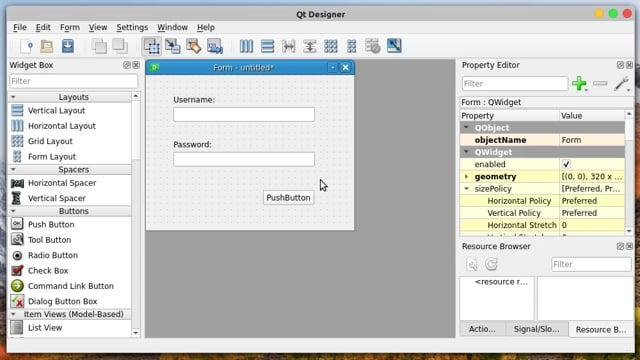button: (567, 321, 635, 339), (509, 321, 567, 339), (459, 320, 507, 339), (264, 191, 316, 206)
checkbox: (614, 77, 632, 94)
dropdown: (7, 91, 135, 106), (8, 205, 132, 219), (8, 165, 133, 178)
icon: (88, 37, 110, 58), (205, 37, 227, 58), (111, 37, 130, 58), (143, 37, 162, 58), (164, 37, 181, 58), (364, 37, 382, 56), (9, 293, 27, 311), (237, 38, 255, 56), (281, 39, 299, 57), (9, 319, 27, 336), (323, 39, 340, 57), (387, 38, 405, 55), (485, 256, 502, 273), (59, 39, 76, 56), (20, 39, 36, 57), (40, 39, 56, 57), (303, 39, 319, 57), (186, 39, 201, 56), (261, 39, 276, 56), (573, 77, 589, 92), (466, 257, 481, 273), (9, 191, 25, 206), (11, 279, 27, 294), (10, 233, 25, 248), (347, 39, 359, 57), (11, 218, 26, 232), (10, 135, 24, 149), (11, 265, 25, 279), (11, 179, 27, 191), (10, 150, 24, 163), (317, 177, 329, 192), (10, 251, 25, 263), (10, 105, 26, 116), (12, 120, 25, 133), (593, 81, 611, 88)
input: (9, 74, 142, 92), (175, 109, 315, 123), (175, 154, 317, 167), (464, 77, 569, 91), (552, 258, 633, 272)
label: (29, 283, 118, 293), (461, 242, 535, 254), (28, 297, 100, 309), (28, 122, 97, 132), (29, 179, 98, 189), (461, 62, 523, 73), (28, 107, 89, 118), (27, 194, 87, 205), (9, 61, 57, 73), (26, 151, 78, 162), (172, 95, 218, 107), (29, 252, 80, 262), (29, 221, 78, 231), (173, 139, 213, 151), (27, 137, 75, 147), (27, 323, 66, 335), (157, 22, 191, 34), (28, 237, 73, 246), (29, 267, 69, 277), (116, 23, 150, 34), (195, 21, 219, 34), (59, 23, 82, 35), (87, 23, 109, 35), (33, 23, 53, 36), (11, 22, 28, 35)
